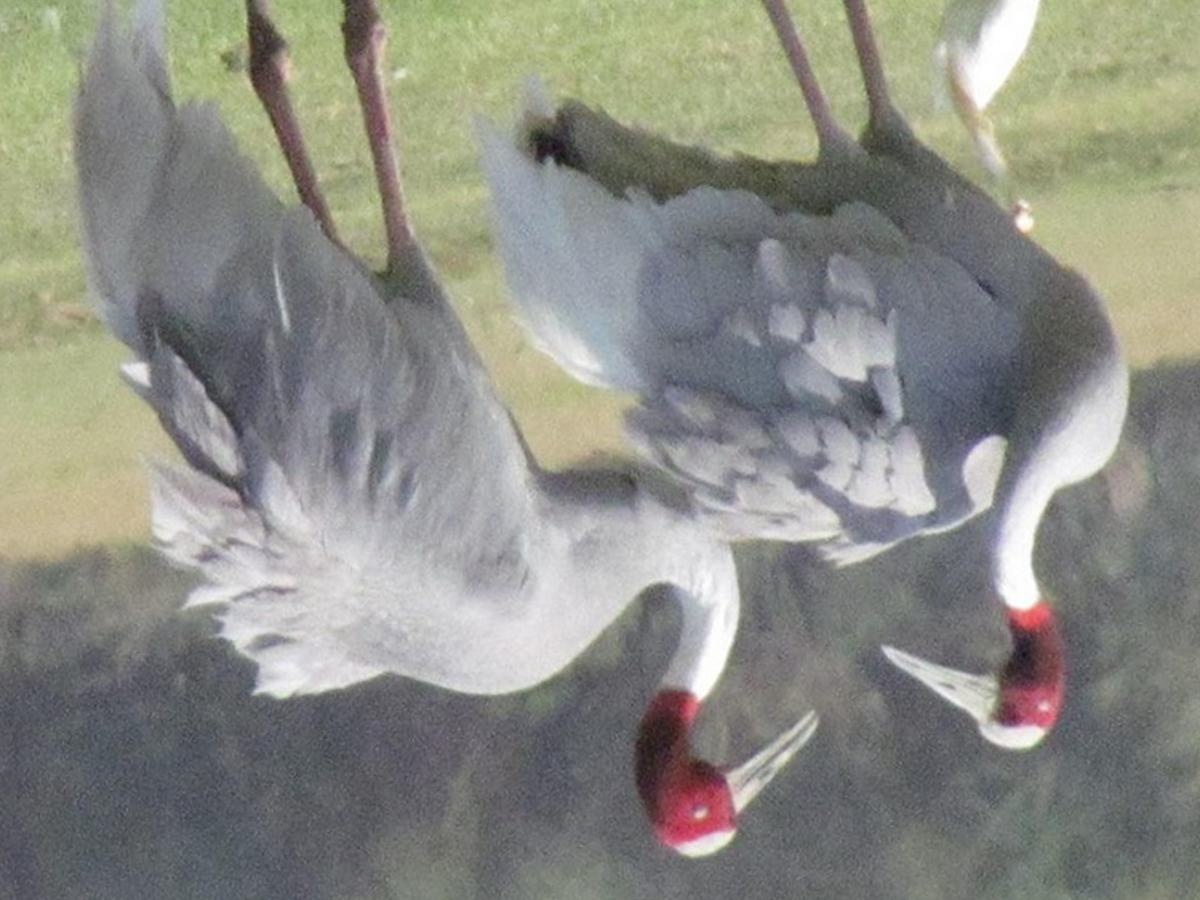crane: (16, 1, 813, 834), (506, 1, 1127, 762)
